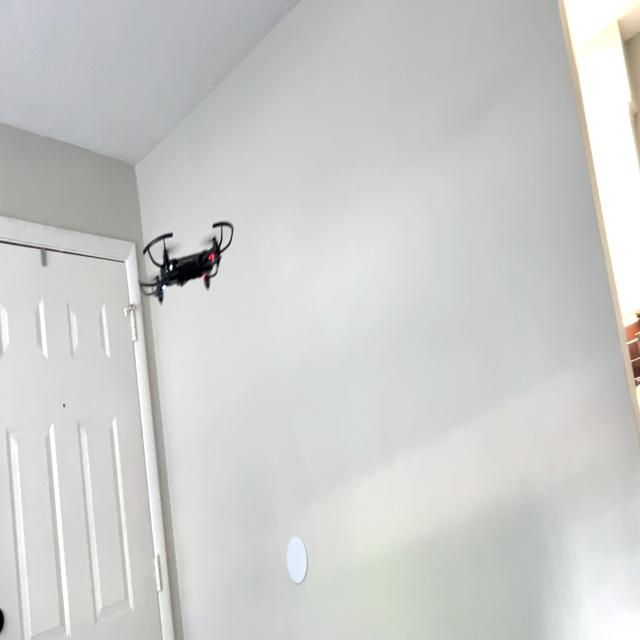drone: (130, 207, 245, 306)
